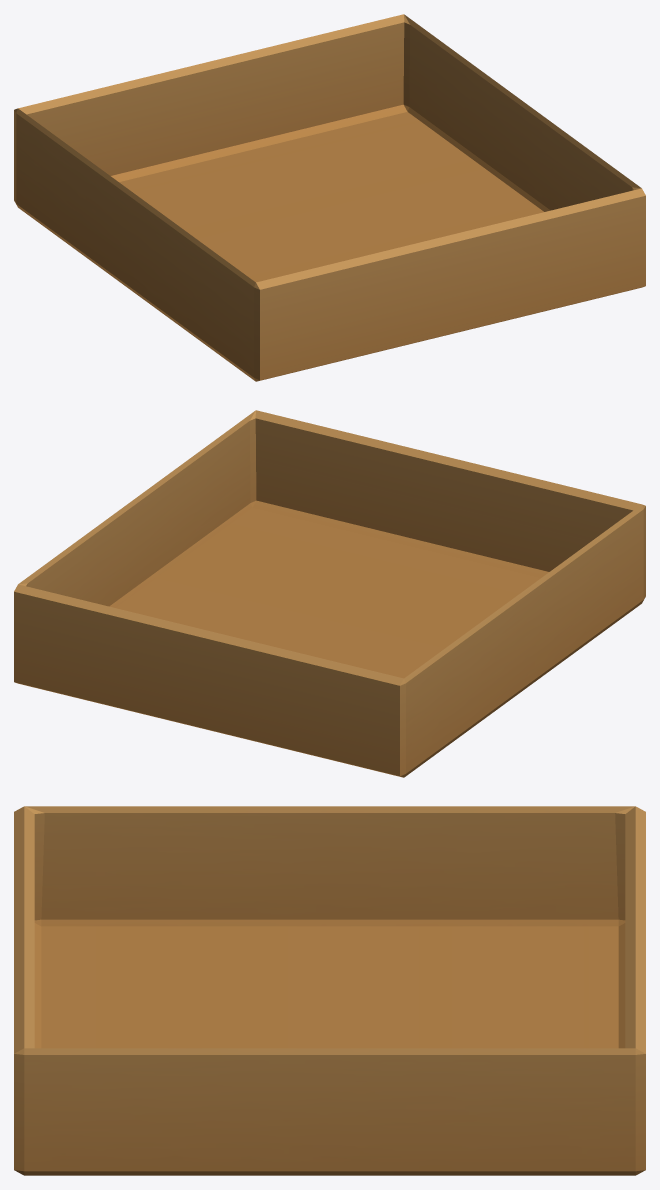
File: Drawer3.fbx
The picture shows the model from 3 angles, top to bottom: view 1: azimuth 30°, elevation 25°; view 2: azimuth 150°, elevation 25°; view 3: azimuth 270°, elevation 25°; orthographic projection. The views are drawn at different scales.
Parts seen in each view (by area): view 1: DresserDrawer3; view 2: DresserDrawer3; view 3: DresserDrawer3.
Boxes of the visible parts, x1,y1,x2,y2 form: DresserDrawer3: [14, 14, 645, 381]; DresserDrawer3: [14, 410, 645, 777]; DresserDrawer3: [14, 806, 645, 1175].
Bounding box in the file's own units: 131 × 31.96 × 144.
Materials: 1 (1 with a texture image).
